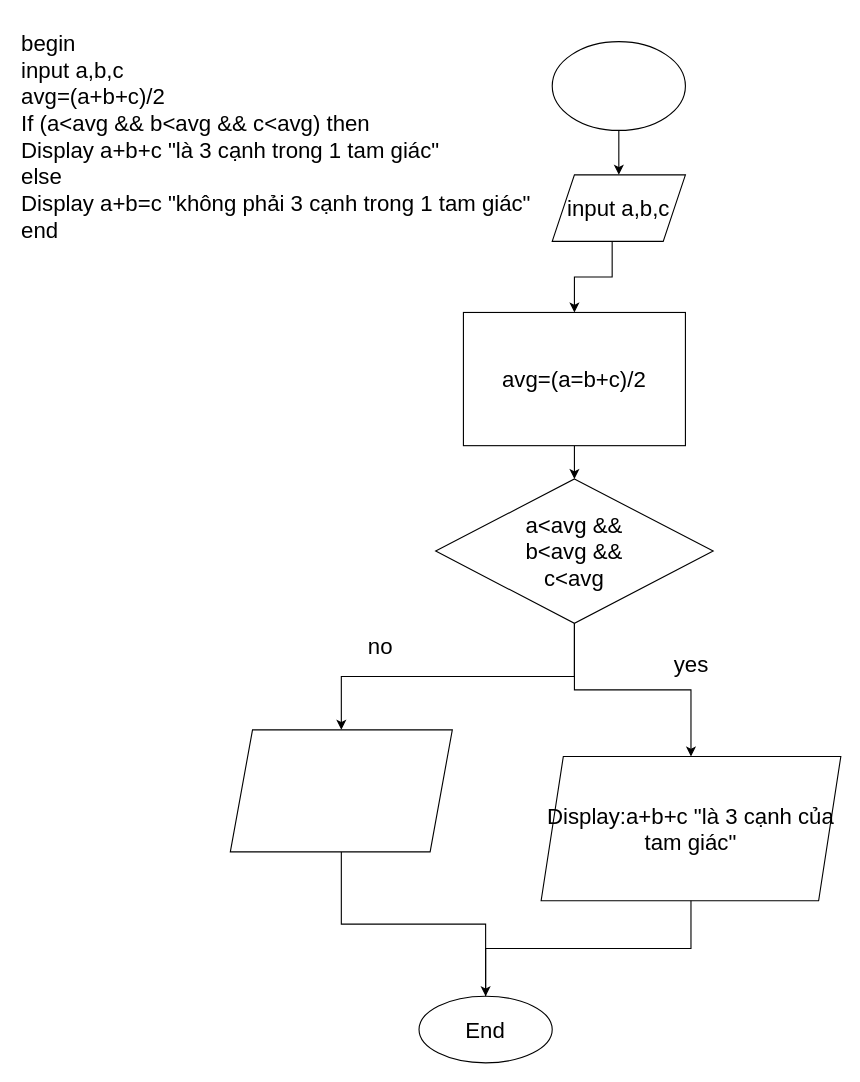
The diagram is 860 pixels wide and 1082 high, and some of its shapes have lost their labels. The shapes that lost their labels are listed below. From the top down, each one's centre as x and y in pixels, then its label:
the point at 618,85: begin
the point at 340,790: Display:a+b+c "không là 3 cạnh của tam giác"
